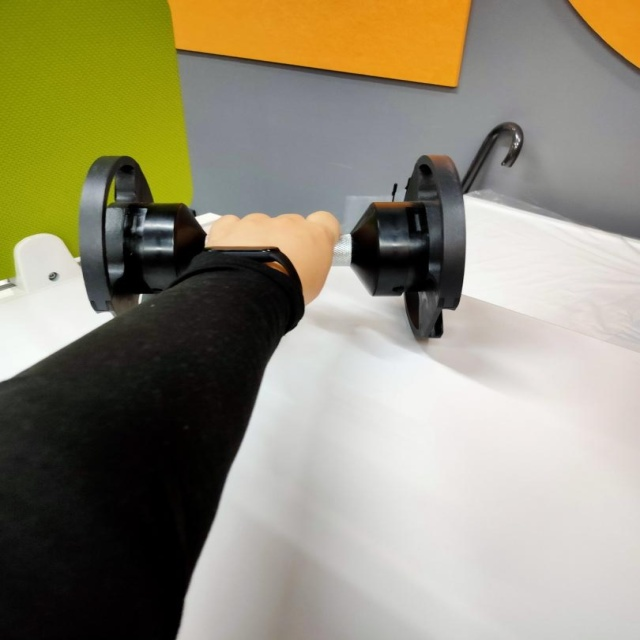01-2kg: (79, 155, 467, 343)
